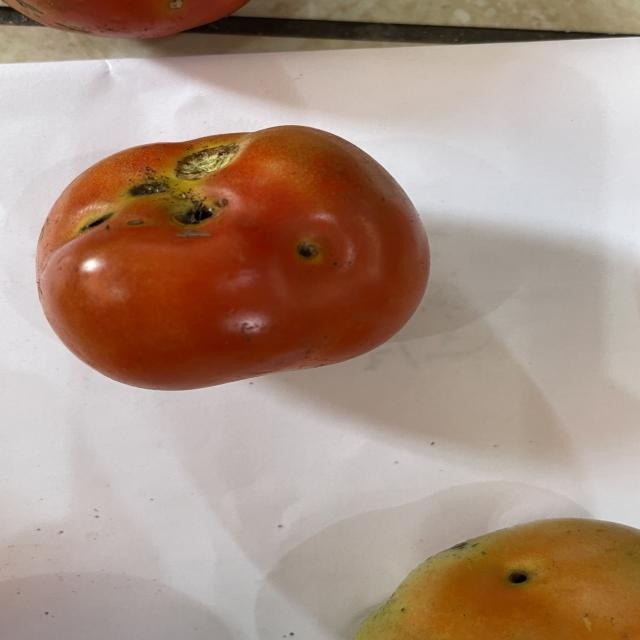fruitworm_bore: (128, 171, 232, 231), (71, 207, 117, 236), (289, 238, 320, 268)
